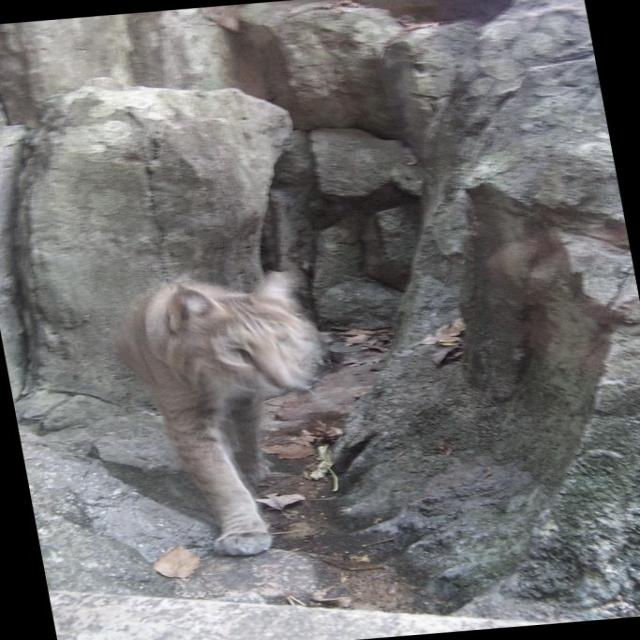Lion: (103, 267, 362, 562)
